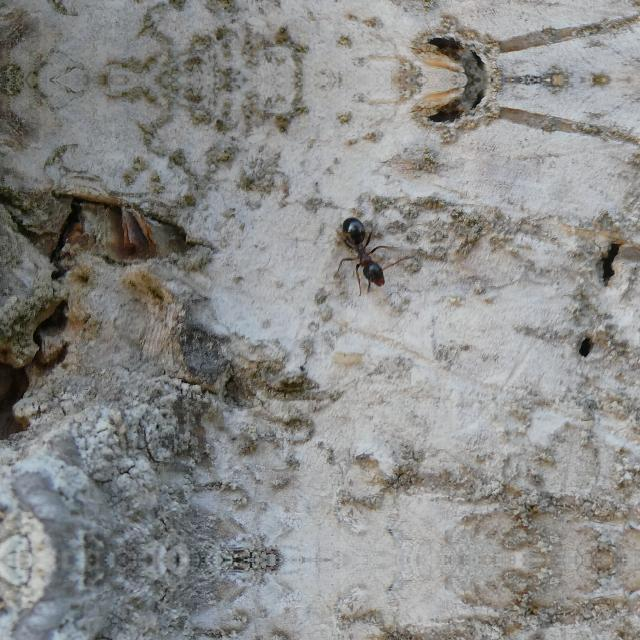Dolichoderus: (326, 206, 404, 294), (504, 482, 526, 496), (504, 624, 526, 638)
